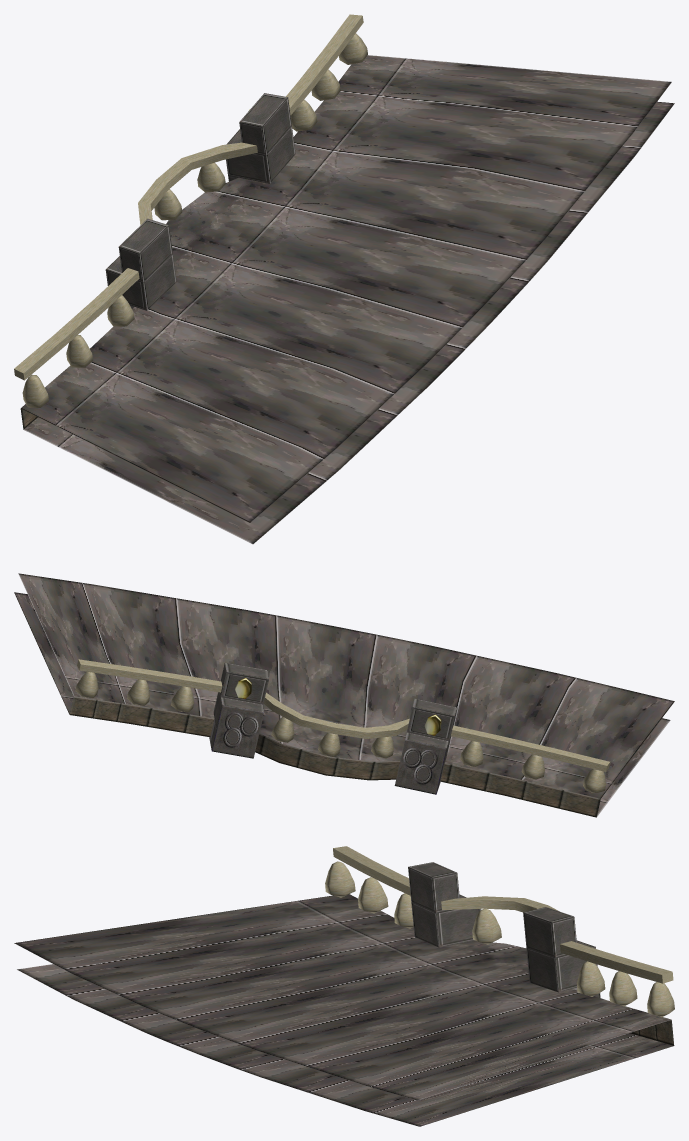
The model's file is CH09_SMAUG_PLAYSURFACE_LAIR32.fbx.
3 views of the same model, one above another, from view 1: azimuth 30°, elevation 25°; view 2: azimuth 150°, elevation 25°; view 3: azimuth 270°, elevation 25° (orthographic). The views are drawn at different scales.
Visible parts, largest first — view 1: CH09_SMAUG_PLAYSURFACE_LAIR32; view 2: CH09_SMAUG_PLAYSURFACE_LAIR32; view 3: CH09_SMAUG_PLAYSURFACE_LAIR32.
Part boxes in pixels (box(x1,y1,x2,y2)): CH09_SMAUG_PLAYSURFACE_LAIR32: box(14, 14, 674, 544); CH09_SMAUG_PLAYSURFACE_LAIR32: box(14, 573, 674, 817); CH09_SMAUG_PLAYSURFACE_LAIR32: box(14, 846, 674, 1126).
Bounding box in the file's own units: 186876 × 51188 × 147648.
5 materials, 5 textured.
